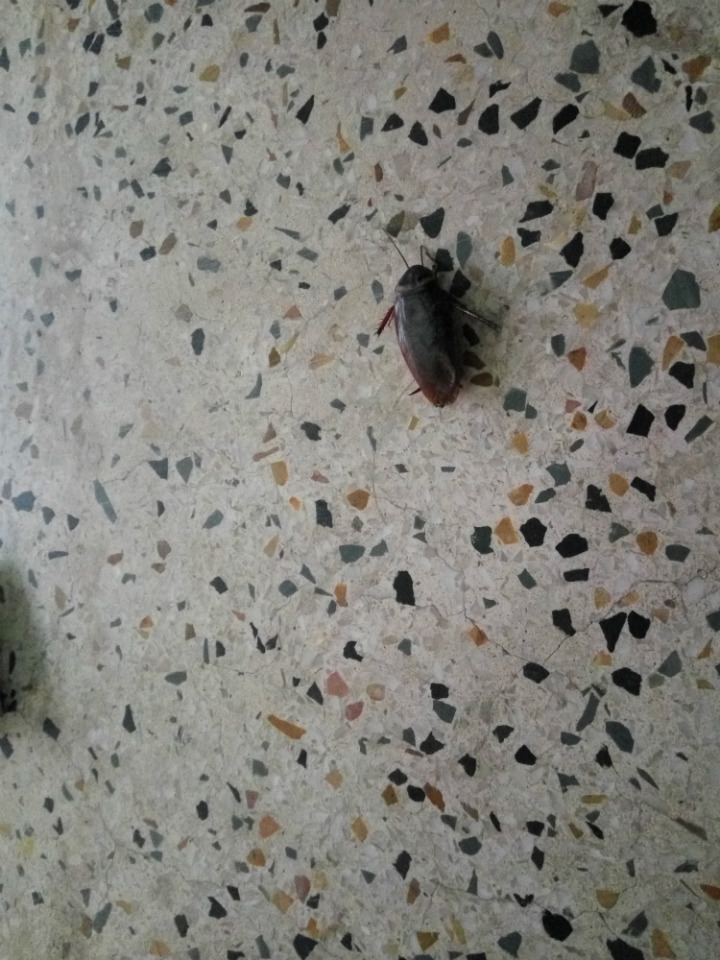cockroach: (335, 209, 535, 471)
